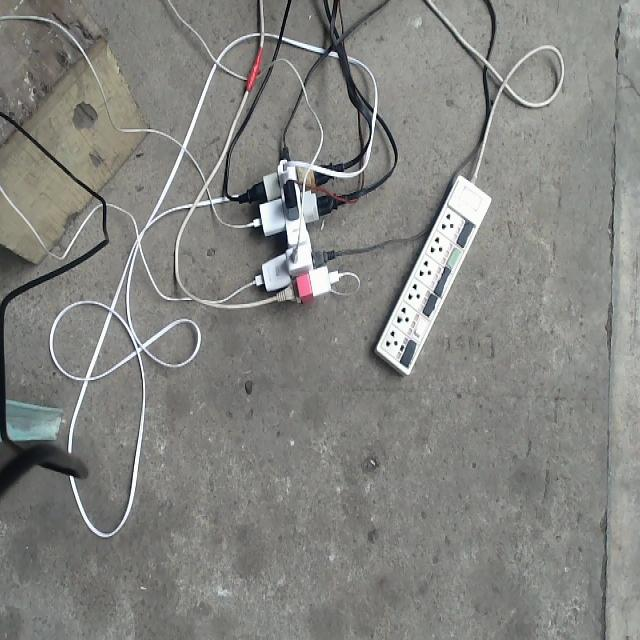-: (248, 159, 336, 300)
